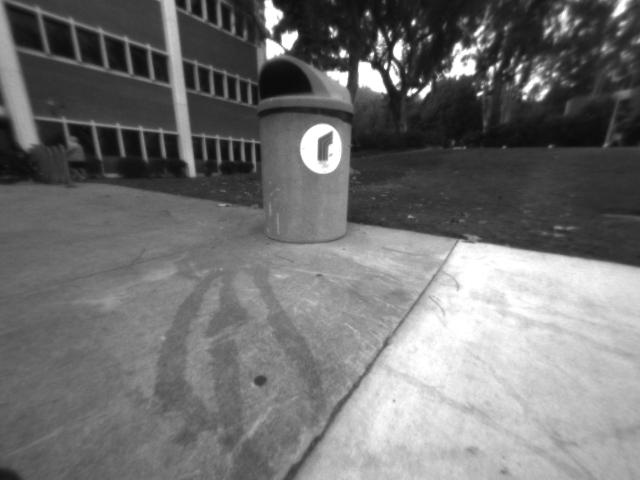trashcan: (248, 52, 363, 248)
